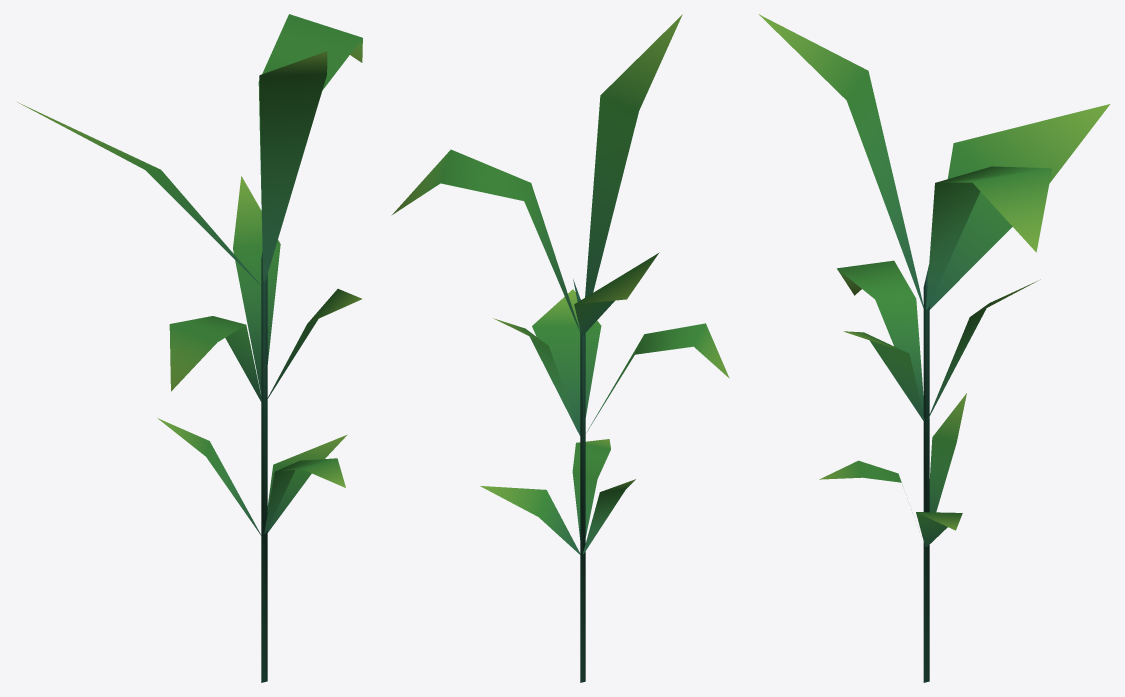
Rendered from milho-medio.glb.
The picture shows the model from 3 angles, left to right: view 1: azimuth 30°, elevation 25°; view 2: azimuth 150°, elevation 25°; view 3: azimuth 270°, elevation 25°; orthographic projection. The views are drawn at different scales.
Parts seen in each view (by area): view 1: corn_medium; view 2: corn_medium; view 3: corn_medium.
Part boxes in pixels (x1,y1,x2,y2): corn_medium: (17, 14, 362, 682); corn_medium: (391, 14, 729, 682); corn_medium: (758, 14, 1110, 682).
Bounding box in the file's own units: 0.6908 × 1.5 × 0.7313.
